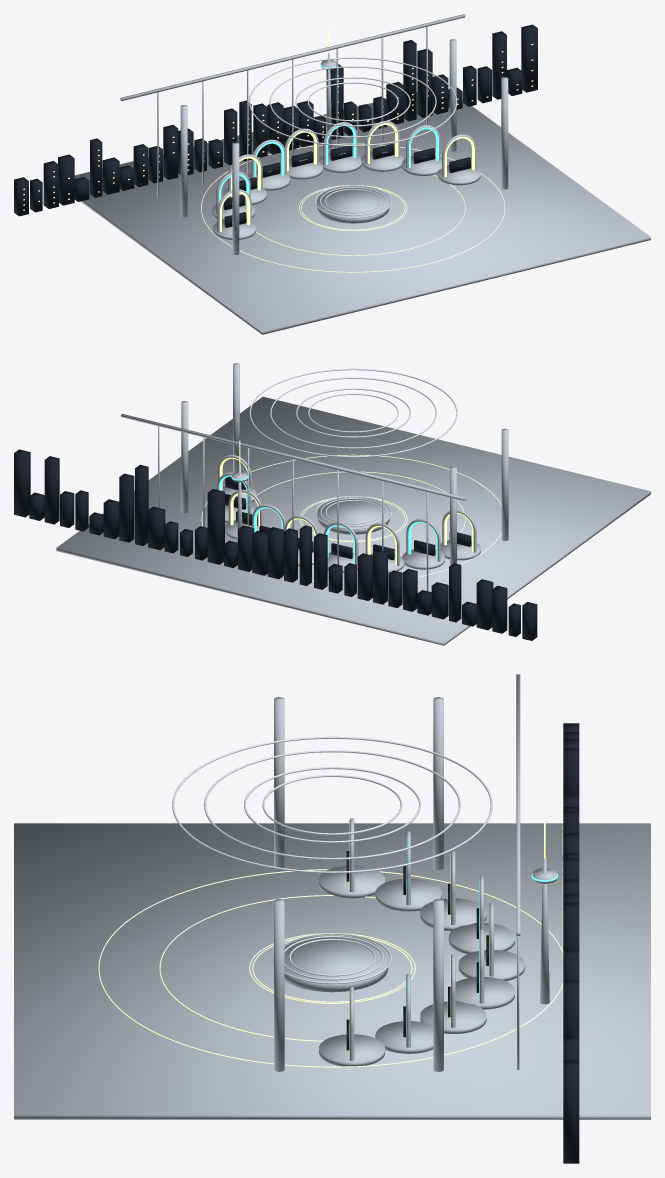
File: hub.glb
3 renders of one model, top to bottom at view 1: azimuth 30°, elevation 25°; view 2: azimuth 150°, elevation 25°; view 3: azimuth 270°, elevation 25°, orthographic. The views are drawn at different scales.
Parts seen in each view (by area): view 1: Reflective floor, Guardian arrival dais, Window lintel, Toronto skyline.034, Toronto skyline.026, Toronto skyline.027, Ceiling light ring.003, Chrome column.002, Chrome column.001, Chrome column, Toronto skyline.032, Toronto skyline.010 (+28 smaller); view 2: Reflective floor, Guardian arrival dais, Window lintel, Toronto skyline.021, Toronto skyline.034, Toronto skyline.026, Toronto skyline.027, Toronto skyline.032, Ceiling light ring.003, Chrome column, Chrome column.003, Toronto skyline.017 (+31 smaller); view 3: Reflective floor, Guardian arrival dais, Ceiling light ring.003, Chrome column.002, Chrome column.003, Chrome column.001, Toronto skyline.034, Chrome column, Portal base home, Ceiling light ring.002, Portal base staarverse, Portal base staarsonic (+14 smaller).
Boxes of the visible parts, bbox=[...] form: Reflective floor: bbox=[74, 89, 650, 334]; Guardian arrival dais: bbox=[317, 186, 389, 223]; Window lintel: bbox=[120, 14, 465, 101]; Toronto skyline.034: bbox=[521, 24, 537, 92]; Toronto skyline.026: bbox=[403, 40, 416, 121]; Toronto skyline.027: bbox=[417, 49, 432, 117]; Ceiling light ring.003: bbox=[249, 57, 457, 146]; Chrome column.002: bbox=[501, 77, 508, 189]; Chrome column.001: bbox=[180, 105, 187, 217]; Chrome column: bbox=[232, 142, 239, 254]; Toronto skyline.032: bbox=[492, 31, 506, 99]; Toronto skyline.010: bbox=[163, 125, 178, 179]; Reflective floor: bbox=[56, 396, 650, 645]; Guardian arrival dais: bbox=[317, 497, 389, 534]; Window lintel: bbox=[121, 414, 465, 500]; Toronto skyline.021: bbox=[207, 489, 224, 564]; Toronto skyline.034: bbox=[14, 449, 30, 517]; Toronto skyline.026: bbox=[135, 464, 148, 545]; Toronto skyline.027: bbox=[119, 473, 134, 542]; Toronto skyline.032: bbox=[44, 456, 59, 524]; Ceiling light ring.003: bbox=[249, 368, 457, 457]; Chrome column: bbox=[501, 428, 508, 540]; Chrome column.003: bbox=[181, 401, 188, 513]; Toronto skyline.017: bbox=[267, 527, 284, 579]; Reflective floor: bbox=[14, 823, 650, 1119]; Guardian arrival dais: bbox=[284, 935, 388, 992]; Ceiling light ring.003: bbox=[172, 736, 492, 873]; Chrome column.002: bbox=[274, 899, 284, 1071]; Chrome column.003: bbox=[433, 899, 443, 1071]; Chrome column.001: bbox=[433, 697, 443, 869]; Toronto skyline.034: bbox=[563, 1060, 579, 1163]; Chrome column: bbox=[274, 697, 284, 869]; Portal base home: bbox=[319, 1034, 385, 1066]; Ceiling light ring.002: bbox=[204, 750, 460, 859]; Portal base staarverse: bbox=[375, 878, 441, 911]; Portal base staarsonic: bbox=[319, 865, 385, 898].
Size of the model in its own units: 34.71 by 7.77 by 24.
